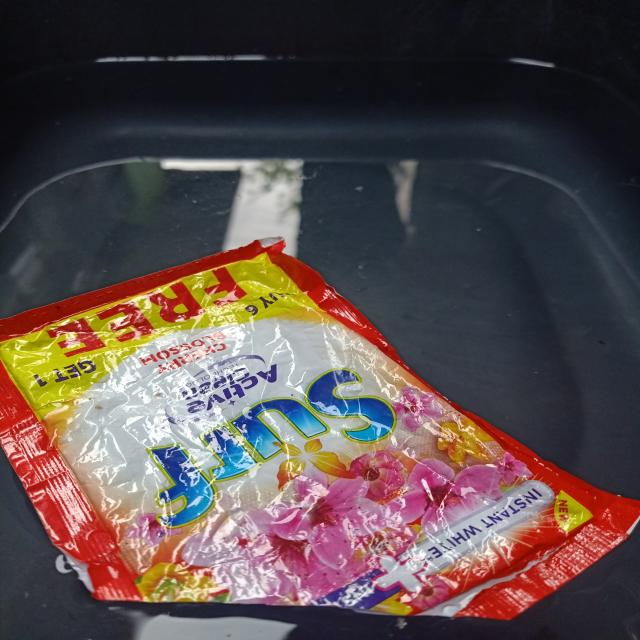Plastic Wrapper: (0, 240, 638, 619)
